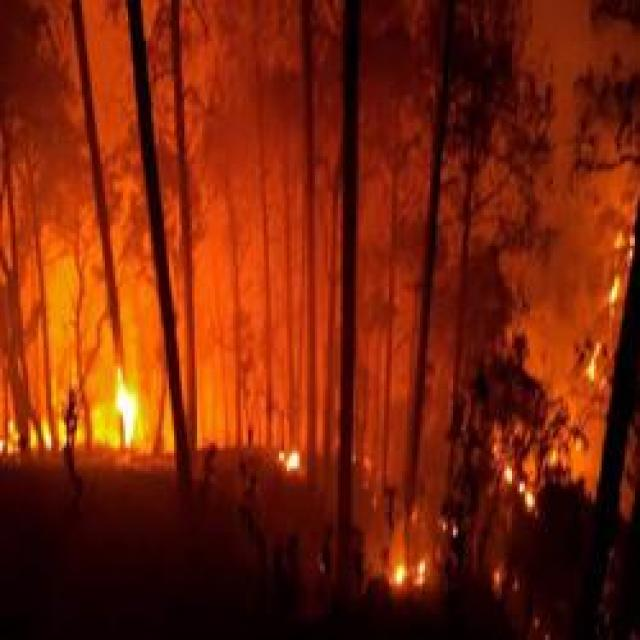fire: (102, 376, 146, 446), (376, 554, 440, 591), (274, 444, 310, 478)
